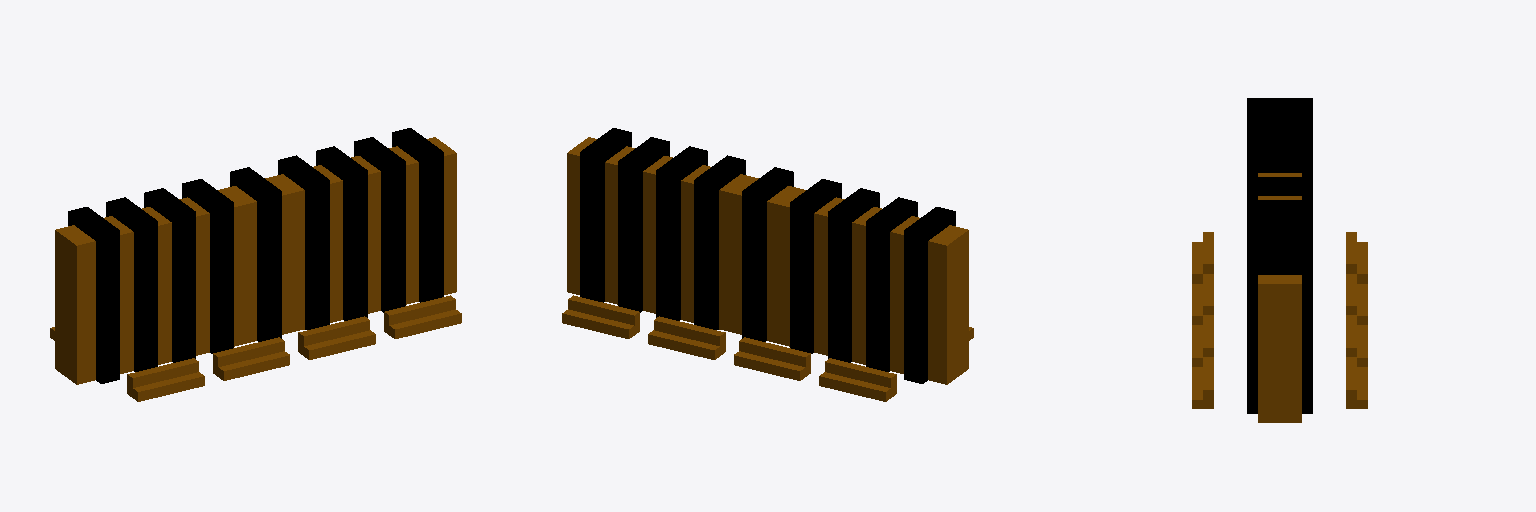
3 renders of one model, left to right at view 1: azimuth 30°, elevation 25°; view 2: azimuth 150°, elevation 25°; view 3: azimuth 270°, elevation 25°, orthographic.
Visible parts, largest first — view 1: baricade; view 2: baricade; view 3: baricade.
Part boxes in pixels (x1,y1,x2,y2): baricade: (50, 128, 461, 401); baricade: (562, 128, 973, 401); baricade: (1192, 98, 1367, 422).
Size of the model in its own units: 40 by 15 by 16.
Materials: 1 (1 with a texture image).